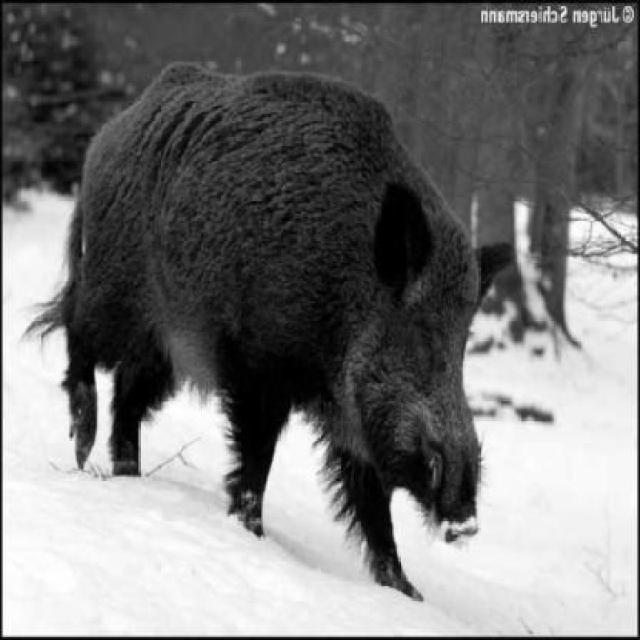Boar: (3, 37, 512, 577)
